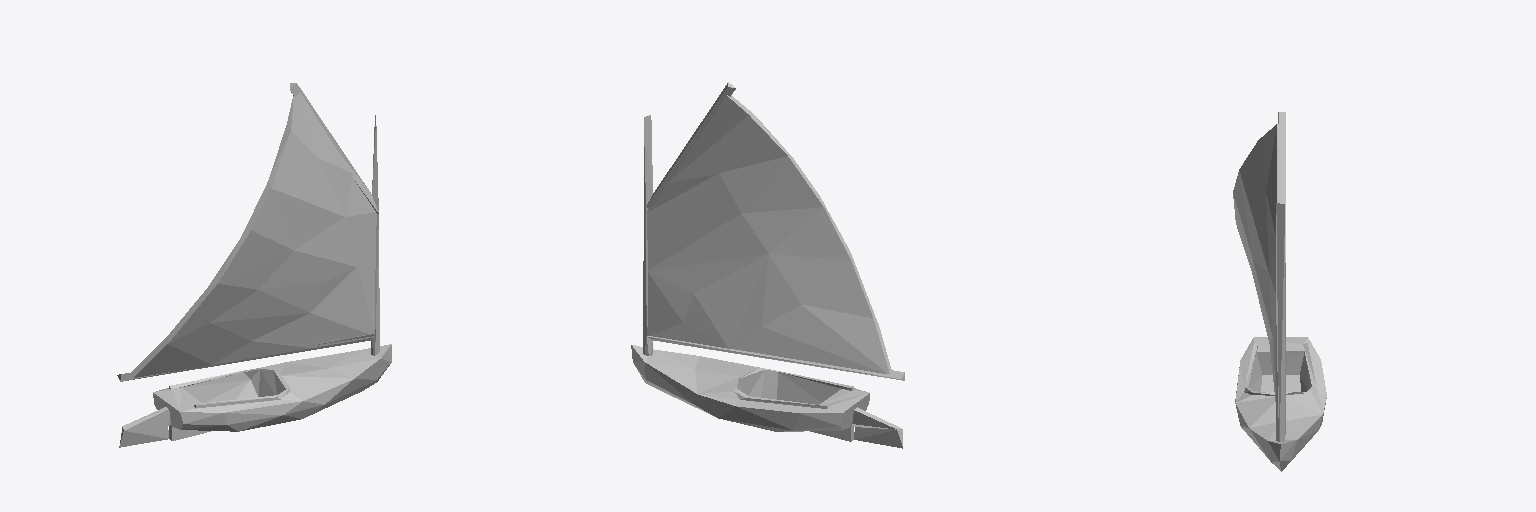
The model's file is Ship.obj.
3 renders of one model, left to right at view 1: azimuth 30°, elevation 25°; view 2: azimuth 150°, elevation 25°; view 3: azimuth 270°, elevation 25°, orthographic.
Parts seen in each view (by area): view 1: 19292_Cat_boat_v1; view 2: 19292_Cat_boat_v1; view 3: 19292_Cat_boat_v1.
Part boxes in pixels (bbox=[...]): 19292_Cat_boat_v1: bbox=[117, 83, 391, 447]; 19292_Cat_boat_v1: bbox=[631, 82, 904, 448]; 19292_Cat_boat_v1: bbox=[1233, 112, 1326, 471].
Size of the model in its own units: 113 by 129 by 33.75.